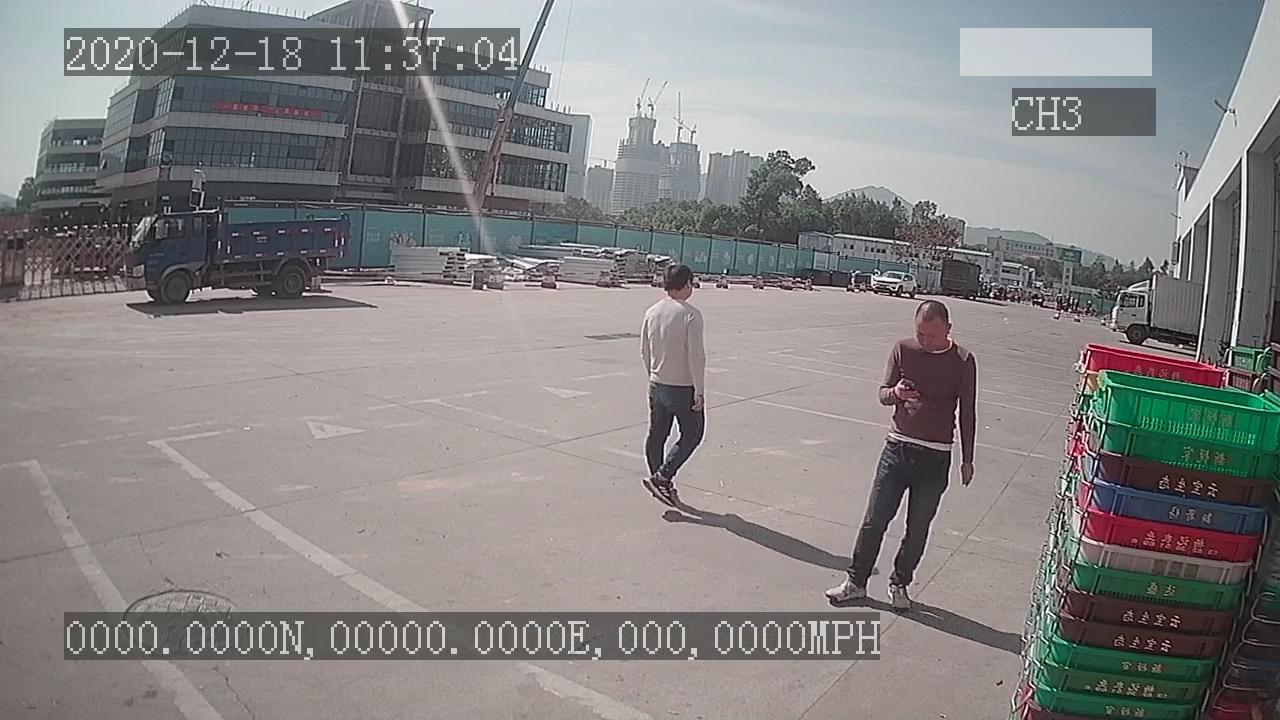person: (826, 297, 980, 611), (638, 260, 715, 513)
